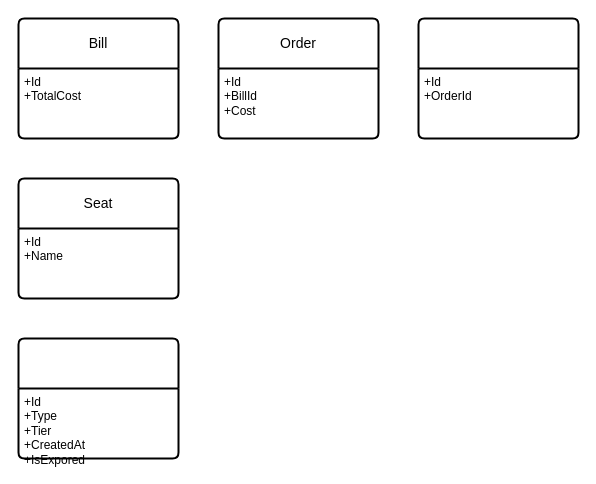
This 596x484 diagram has some shape labels left out. The box of each missing label's shape, as (x1, y1, x2, y2) in pixels:
OrderItem: (417, 17, 579, 139)
Plate: (17, 337, 179, 459)
